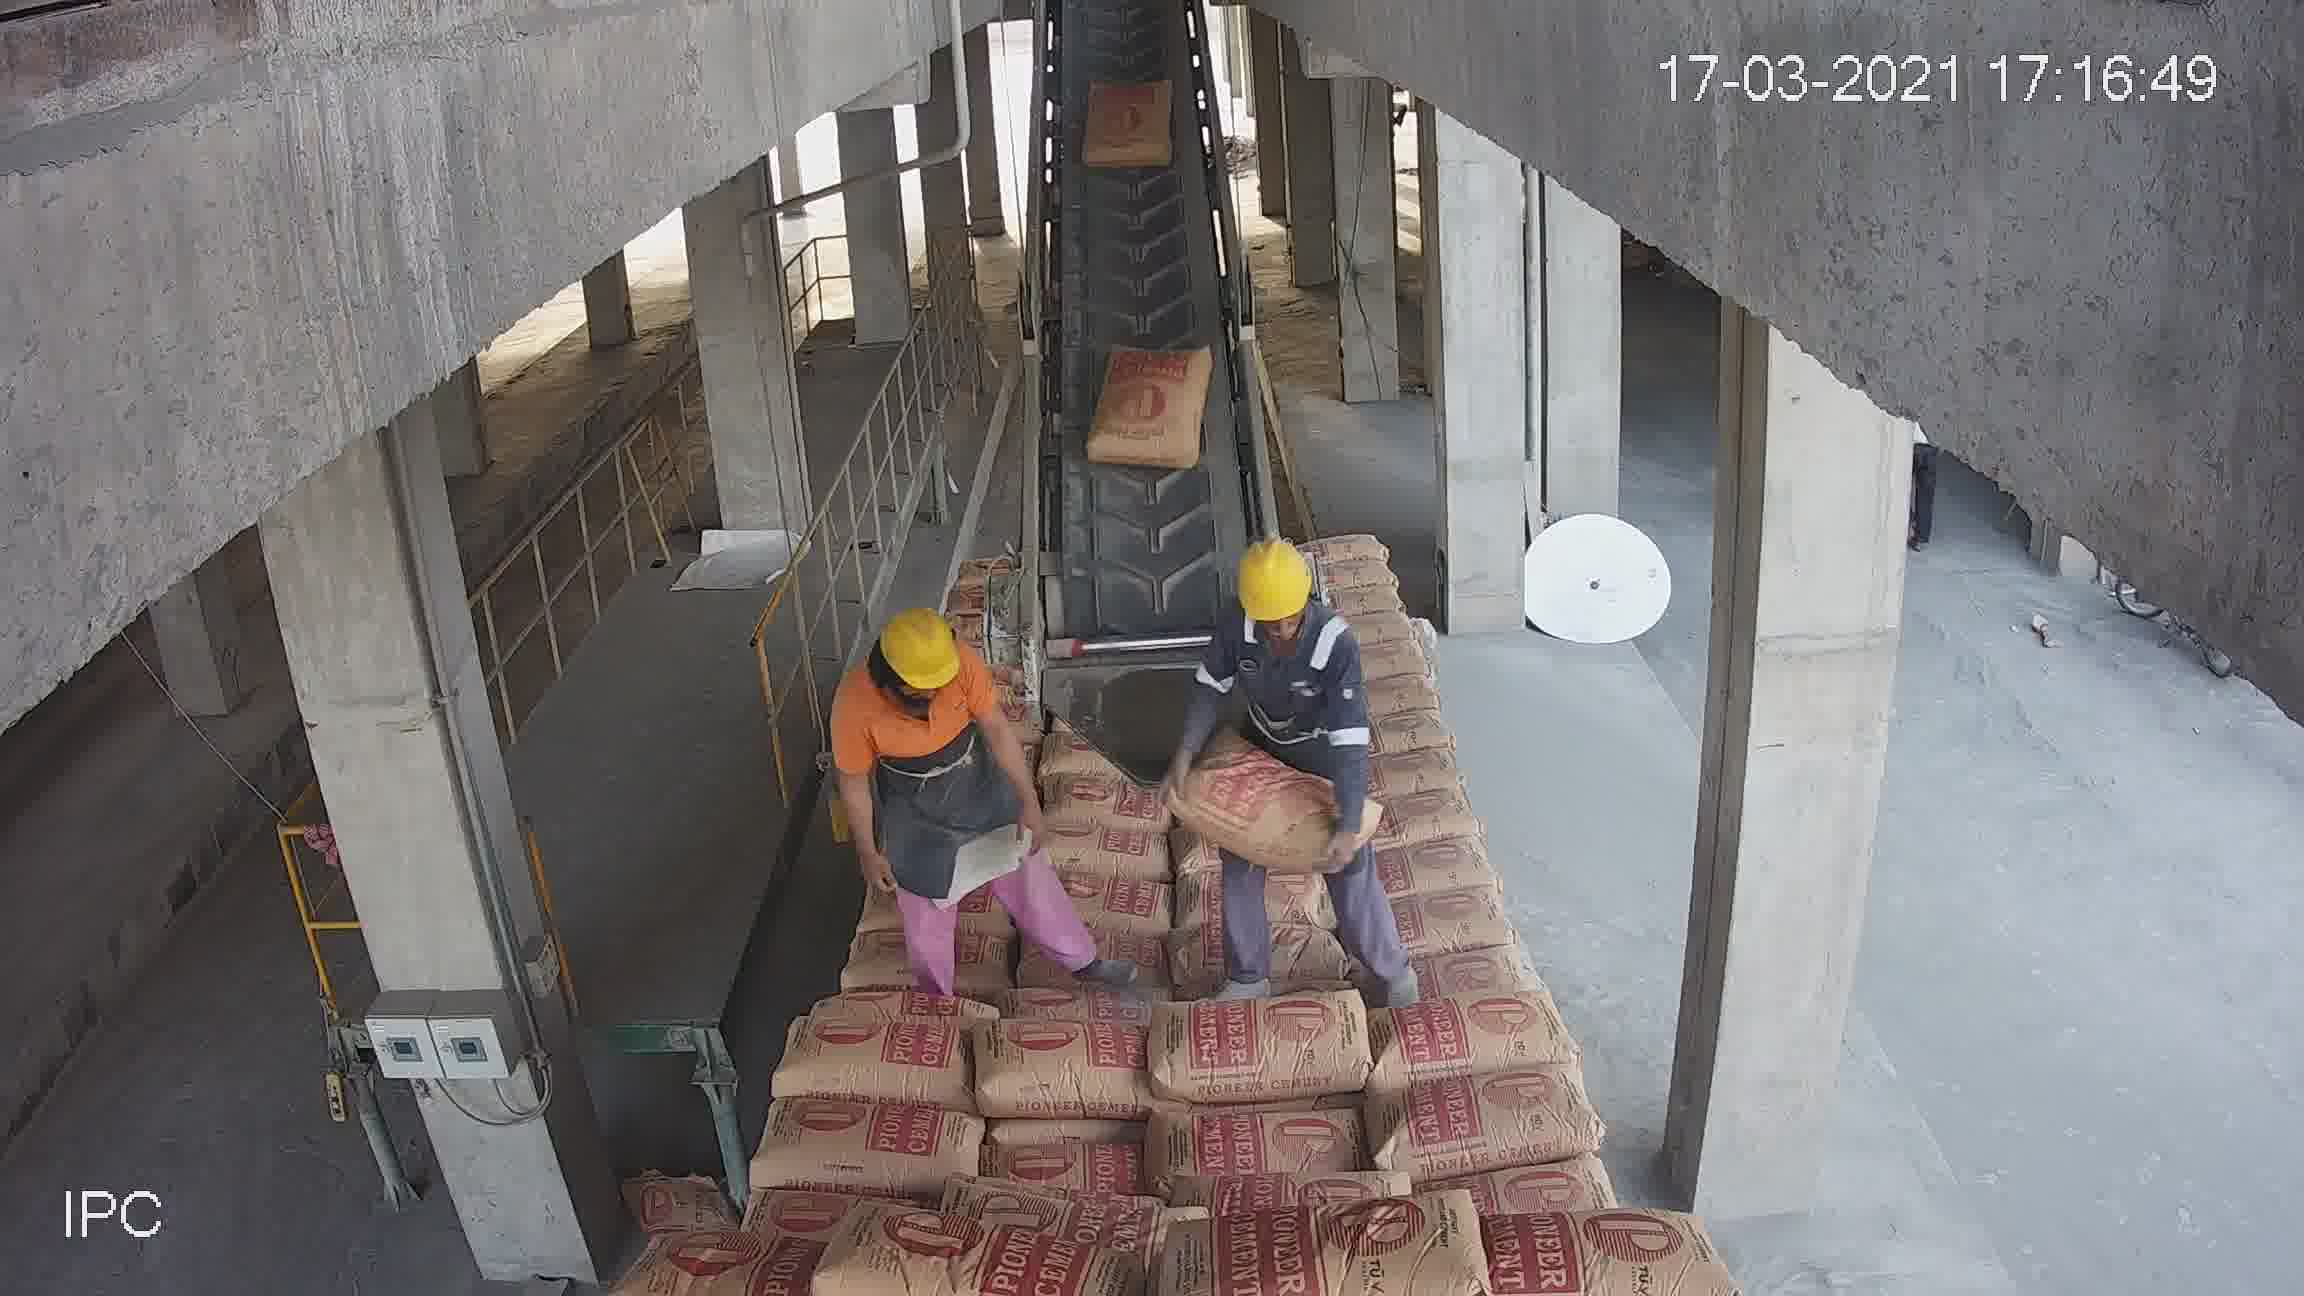bag: (1090, 339, 1211, 457), (1079, 73, 1180, 176)
bag_h: (1195, 1188, 1503, 1296), (1146, 991, 1381, 1109), (791, 1215, 1131, 1294), (1184, 729, 1364, 873), (1442, 1203, 1709, 1296), (1378, 1079, 1589, 1193), (748, 1098, 995, 1195), (972, 1008, 1157, 1130), (1355, 999, 1582, 1097), (1160, 1111, 1366, 1196), (771, 1022, 976, 1105), (630, 1225, 850, 1294), (1377, 938, 1546, 1019), (984, 1141, 1160, 1201), (1043, 805, 1166, 877), (807, 984, 999, 1029), (1397, 885, 1513, 956), (1059, 870, 1166, 943), (1388, 839, 1505, 905), (1043, 769, 1158, 831), (1362, 745, 1465, 805), (1381, 788, 1473, 843), (1366, 706, 1454, 755), (1312, 524, 1385, 563), (1321, 559, 1396, 593)
belt: (1029, 62, 1260, 657)
